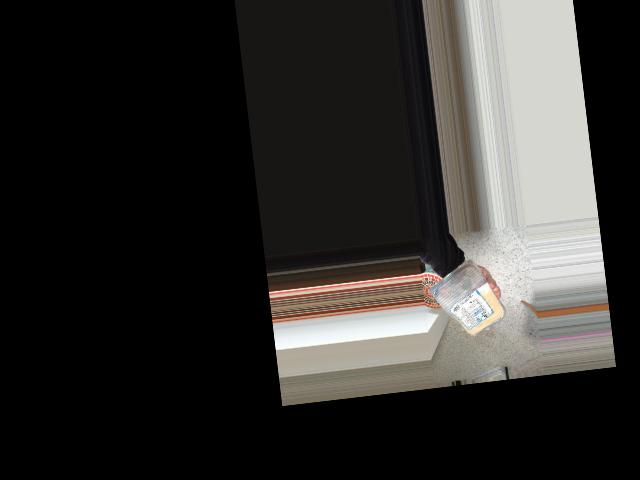cheese: (429, 262, 500, 345)
